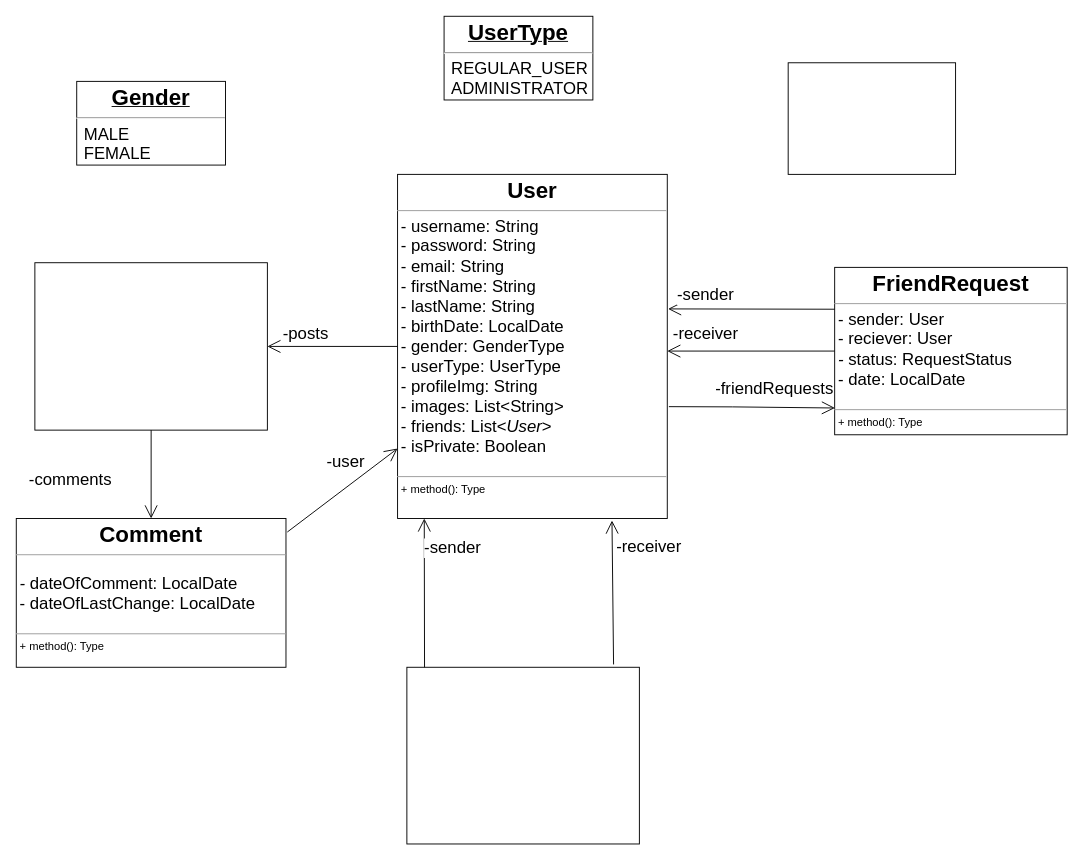
Image size: 1083x860. Some labels were removed from this diagram. The shapes that lost their labels are listed below. From the top down, each one's centre as x and y in pixels, then its label:
At [871,118]: "RequestStatus PENDING ACCEPTED REJECTED".
At [150,346]: "Post - image: String - text: String + method(): Type".
At [522,755]: "DirectMessage - messageContent: String - date: LocalDate + method(): Type".
